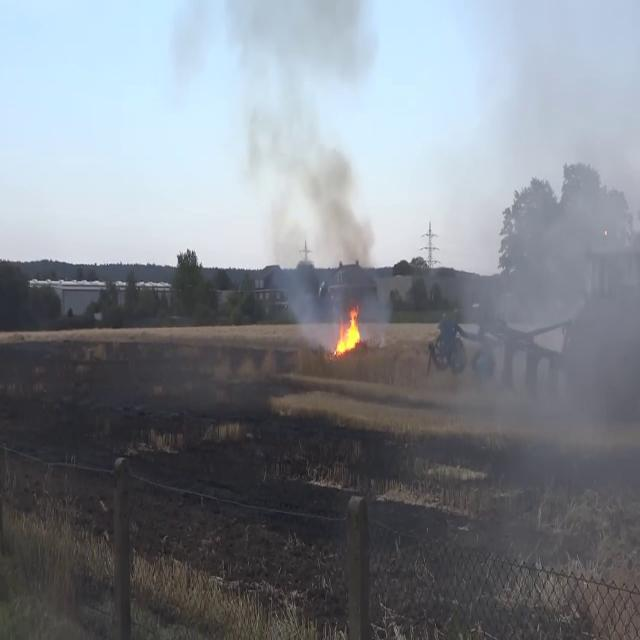Fire: (333, 300, 365, 359)
Smoke: (452, 13, 640, 464), (224, 2, 386, 296)
